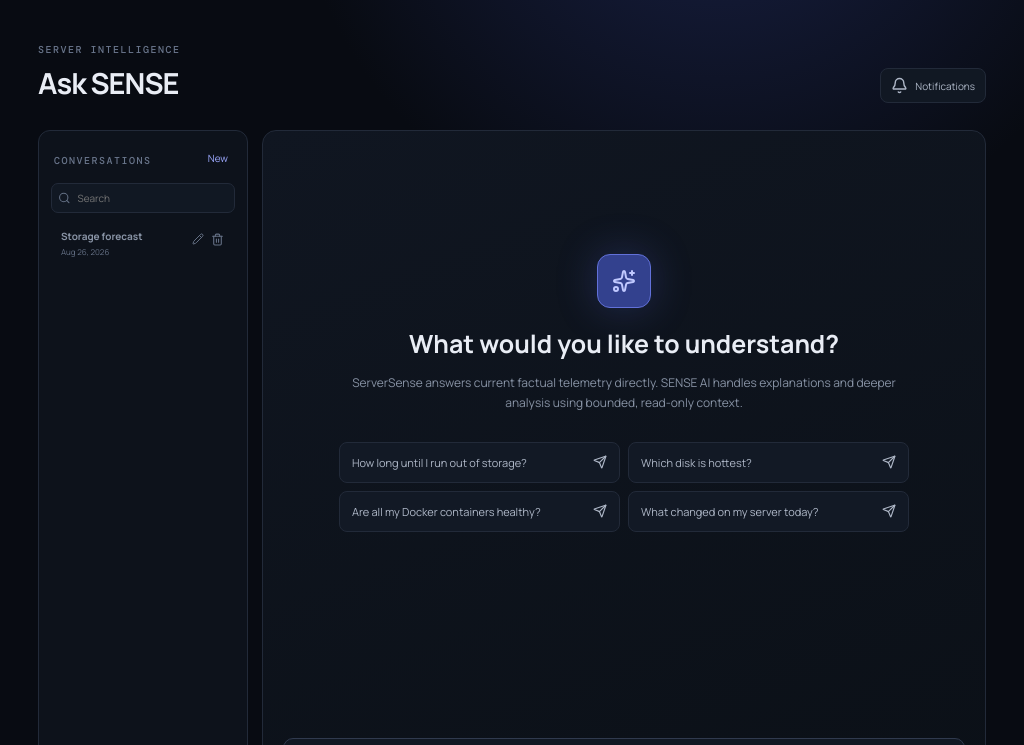
SENSE requests › deletes a conversation and clears it when active
This screenshot has width=1024, height=745.
Click the button "Storage forecast Aug 26, 2026": click(143, 243) [51,219,235,267]
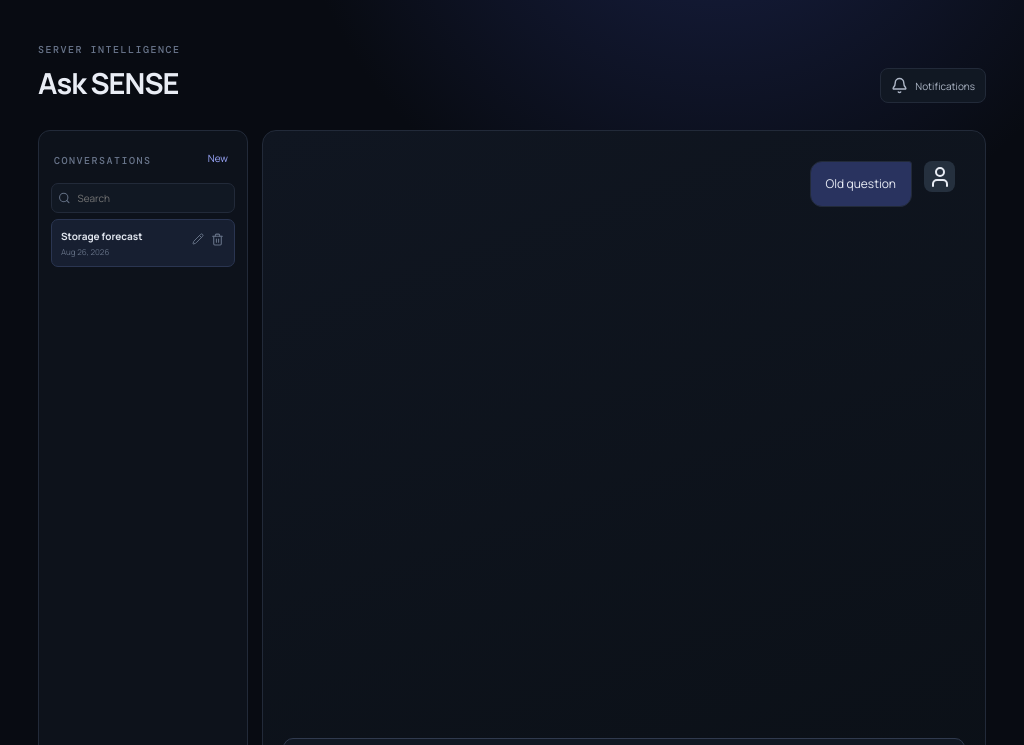
Expected: the text "Old question" is shown, [826,174,896,194]
Click the button named "Delete conversation: Storage forecast": click(218, 240) [205,227,230,252]
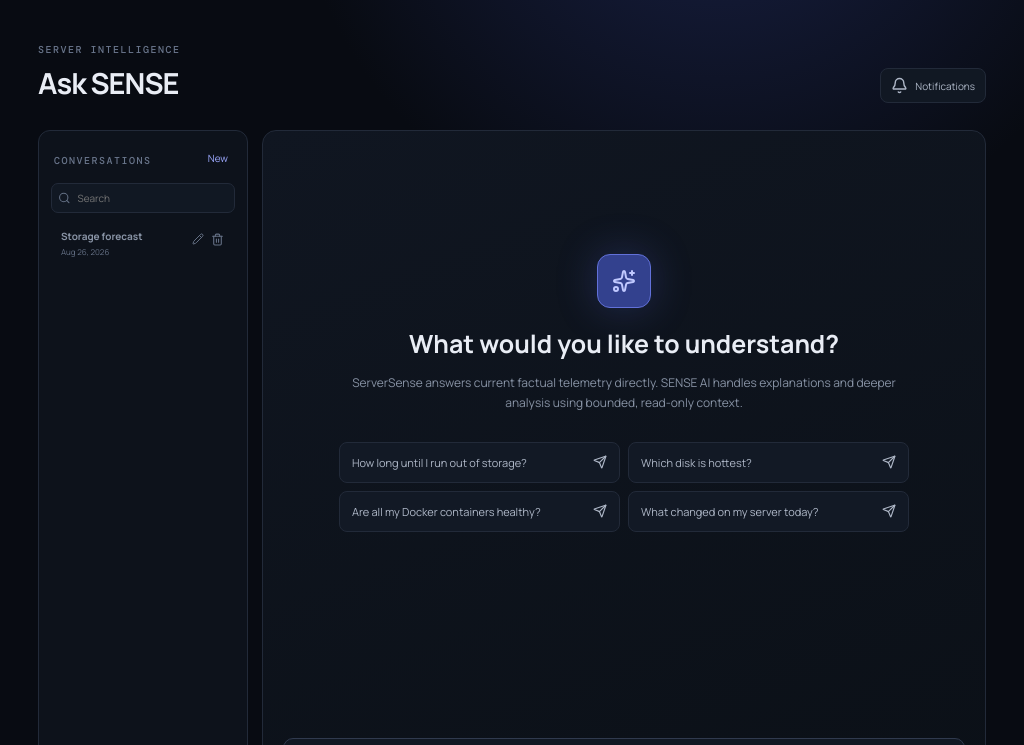
Expected: the heading "What would you like to understand?" is shown, [409,326,839,361]
